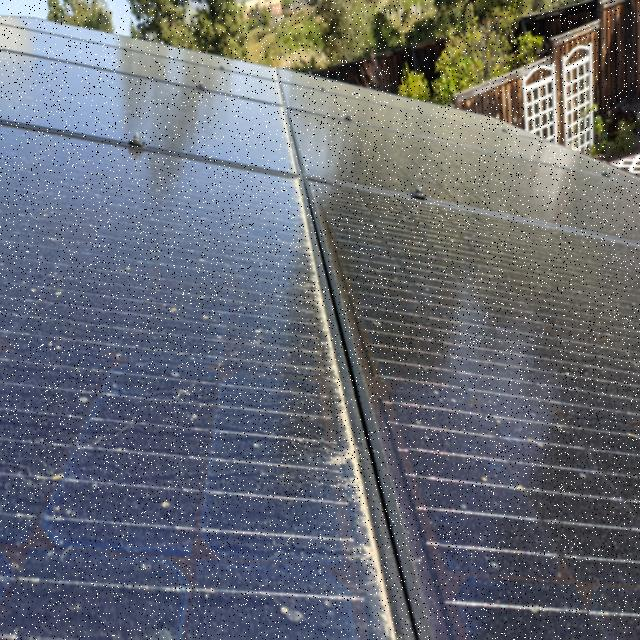dusty: (0, 124, 389, 636)
